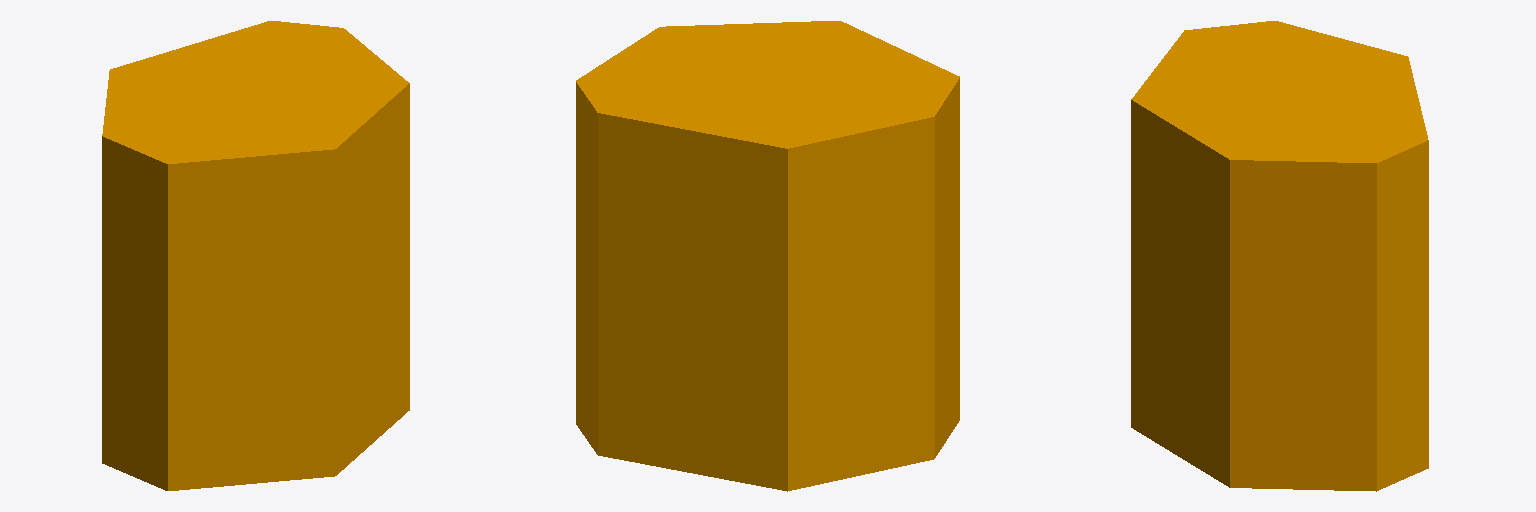
The robot description file, URDF, robot "object":
<?xml version="1.0"?>
<robot name="object">
  <link name="object">
    <visual>
      <origin xyz="0 0 0"/>
      <geometry>
        <mesh filename="meshes/generated/col_083.obj" scale="0.03 0.03 0.03"/>
      </geometry>
    </visual>
    <collision>
      <origin xyz="0 0 0"/>
      <geometry>
        <mesh filename="meshes/generated/col_083.obj" scale="0.03 0.03 0.03"/>
      </geometry>
    </collision>
    <inertial>
      <density value="1000.0"/>
    </inertial>
  </link>
</robot>

--- What the picture shows (computed from the rendered views, not written in the file) ---
3 views of the same robot in one strip: view 1: azimuth 30°, elevation 25°; view 2: azimuth 150°, elevation 25°; view 3: azimuth 270°, elevation 25° (orthographic).
Model object with 1 links and 0 joints (none), rooted at object, posed every joint at zero.
Visible links, largest first — view 1: object; view 2: object; view 3: object.
Link boxes in pixels (left/top/right/bottom): object: left=102, top=21, right=409, bottom=490; object: left=576, top=21, right=959, bottom=491; object: left=1131, top=21, right=1428, bottom=491.
Bounding box of the posed robot: 0.0561 × 0.0493 × 0.06 m (x, y, z).
Meshes: 1 distinct files referenced, 1 mesh visuals loaded (1 OBJ).
